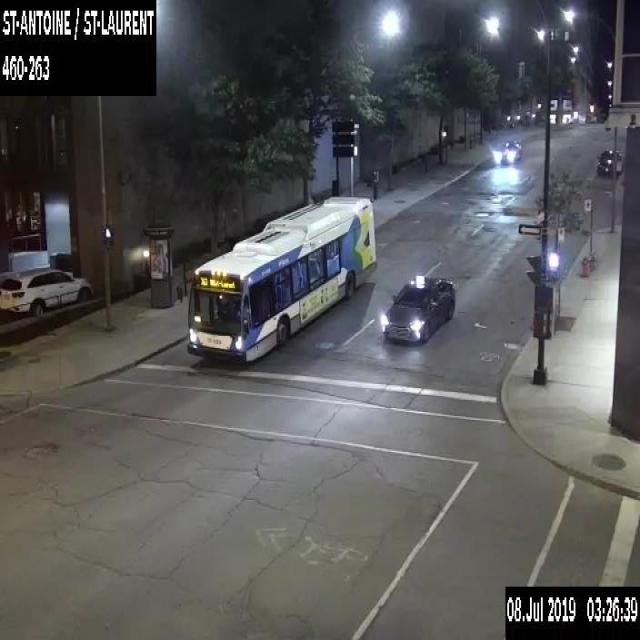bus: (186, 193, 378, 363)
vehicle: (382, 273, 454, 343), (0, 267, 94, 316), (596, 148, 623, 176), (496, 138, 522, 163)
